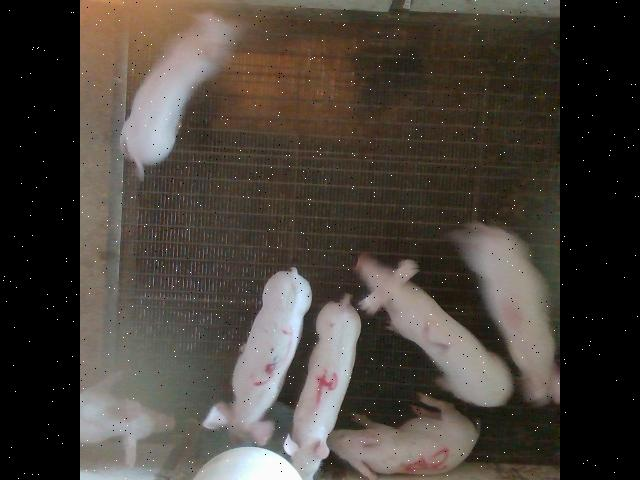pig-1: (451, 221, 555, 404)
pig-2: (356, 254, 512, 406)
pig-3: (204, 269, 311, 445)
pig-4: (284, 294, 361, 480)
pig-5: (328, 392, 479, 479)
